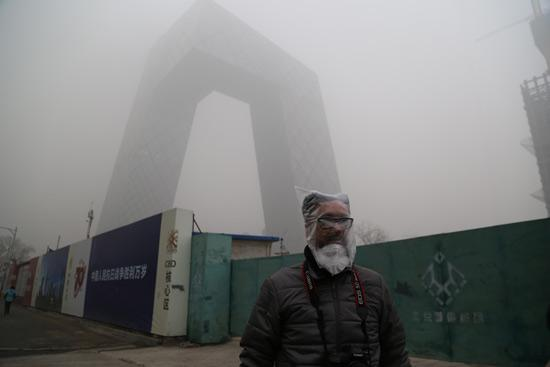person: (239, 191, 412, 367), (3, 285, 17, 316)
